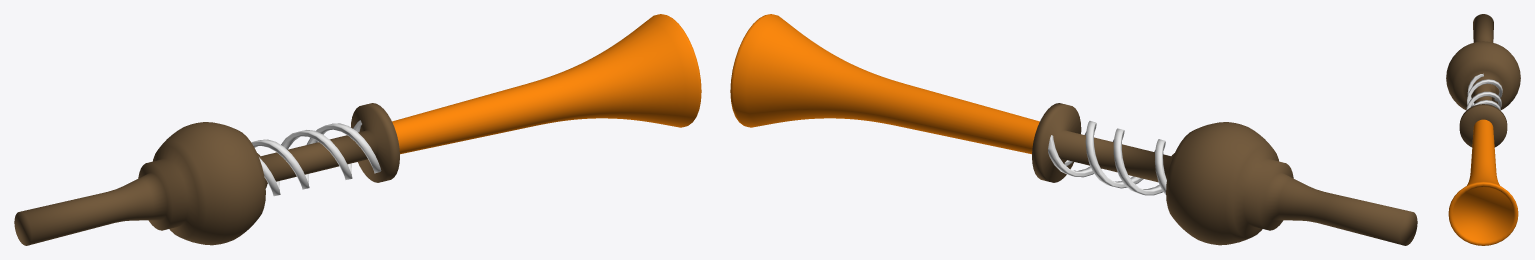
The model's file is Deco-Bonus-B.fbx.
The picture shows the model from 3 angles, left to right: view 1: azimuth 30°, elevation 25°; view 2: azimuth 150°, elevation 25°; view 3: azimuth 270°, elevation 25°; orthographic projection. The views are drawn at different scales.
Parts seen in each view (by area): view 1: Deco-Bonus-B; view 2: Deco-Bonus-B; view 3: Deco-Bonus-B.
Part boxes in pixels (x1,y1,x2,y2): Deco-Bonus-B: [14, 14, 701, 245]; Deco-Bonus-B: [730, 14, 1417, 245]; Deco-Bonus-B: [1446, 14, 1520, 245].
Size of the model in its own units: 43690 by 7219 by 7219.
